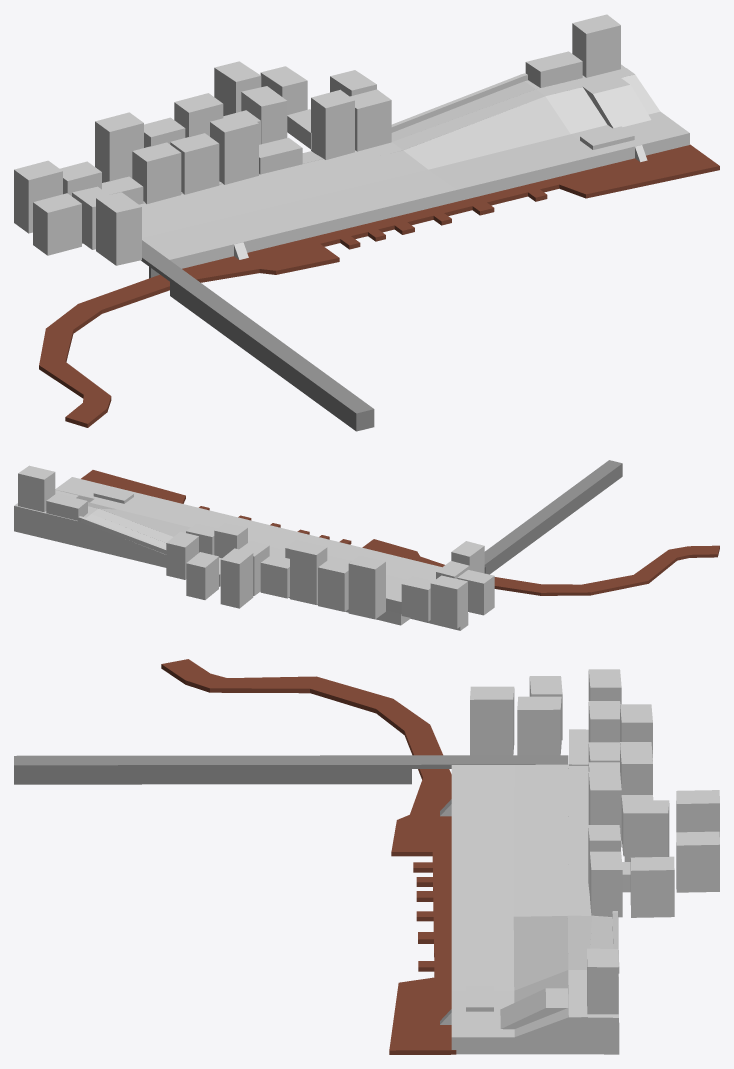
The model's file is Zona_Cais.fbx.
The picture shows the model from 3 angles, top to bottom: view 1: azimuth 30°, elevation 25°; view 2: azimuth 150°, elevation 25°; view 3: azimuth 270°, elevation 25°; orthographic projection. The views are drawn at different scales.
Parts seen in each view (by area): view 1: Cube.005, Cais.001, Ponte.001, Predio_1.011, Predio_1.001, Predio_1.004, Predio_1.013, Predio_1.010, Predio_1.006, Predio_1.003, Predio_1.008, Predio_1.002 (+16 smaller); view 2: Cube.005, Cais.001, Ponte.001, Predio_1.013, Predio_1.012, Predio_1.019, Predio_1.008, Predio_1.014, Predio_1.006, Predio_1.018, Predio_1.007, Predio_1.017 (+11 smaller); view 3: Cube.005, Cais.001, Ponte.001, Predio_1.011, Predio_1.017, Predio_1.009, Predio_1.018, Predio_1.015, Predio_1.006, Predio_1.005, Predio_1.019, Predio_1.001 (+9 smaller).
Part boxes in pixels (x1,y1,x2,y2): Cube.005: (82, 64, 689, 268); Cais.001: (39, 144, 719, 427); Ponte.001: (141, 240, 374, 431); Predio_1.011: (96, 192, 141, 265); Predio_1.001: (210, 113, 258, 184); Predio_1.004: (311, 89, 354, 159); Predio_1.013: (95, 112, 143, 182); Predio_1.010: (33, 193, 81, 255); Predio_1.006: (572, 14, 620, 77); Predio_1.003: (132, 142, 181, 203); Predio_1.008: (14, 160, 62, 233); Predio_1.002: (170, 133, 219, 194); Cube.005: (14, 477, 468, 630); Cais.001: (81, 470, 719, 595); Ponte.001: (484, 460, 622, 574); Predio_1.013: (348, 555, 385, 619); Predio_1.012: (290, 541, 327, 604); Predio_1.019: (220, 548, 253, 608); Predio_1.008: (430, 575, 467, 628); Predio_1.014: (318, 559, 348, 611); Predio_1.006: (18, 465, 55, 511); Predio_1.018: (186, 552, 218, 599); Predio_1.007: (401, 576, 433, 621); Predio_1.017: (166, 531, 198, 579); Cube.005: (451, 729, 619, 1054); Cais.001: (161, 659, 456, 1054); Ponte.001: (14, 755, 568, 784); Predio_1.011: (470, 686, 514, 755); Predio_1.017: (630, 856, 674, 917); Predio_1.009: (517, 696, 561, 755); Predio_1.018: (676, 831, 719, 892); Predio_1.015: (624, 800, 669, 861); Predio_1.006: (587, 948, 618, 1014); Predio_1.005: (590, 851, 622, 917); Predio_1.019: (676, 790, 719, 836); Predio_1.001: (588, 771, 621, 847).
Size of the model in its own units: 40003 by 4281 by 30487.
